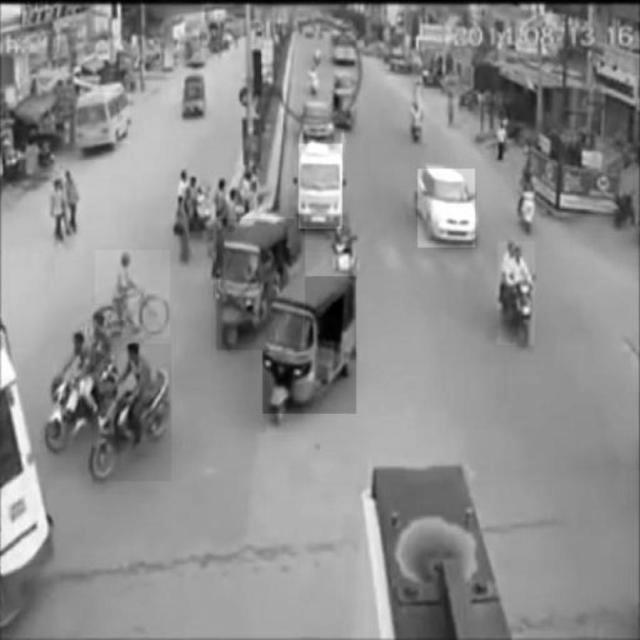vehicle: (263, 277, 356, 414), (217, 219, 305, 350), (92, 345, 172, 482), (43, 333, 123, 453), (95, 250, 171, 338), (418, 170, 475, 248), (497, 242, 535, 345), (299, 144, 343, 228), (76, 93, 130, 144)
